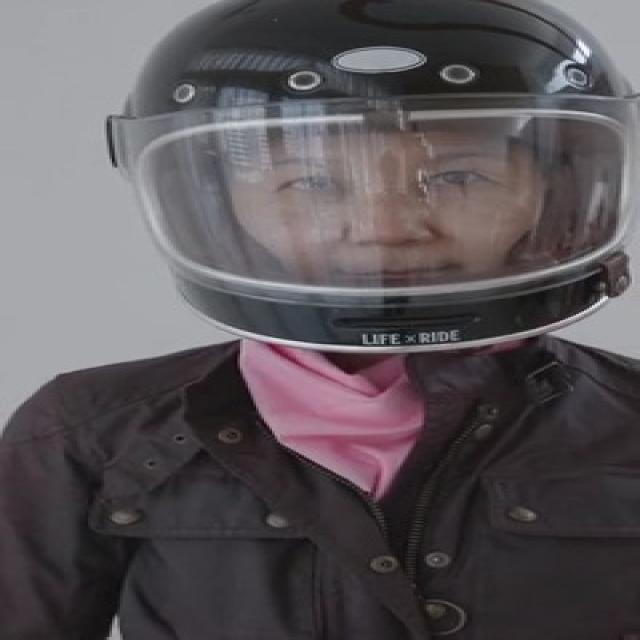Helmet_Wearer: (97, 4, 622, 355)
Person: (0, 0, 640, 640)
